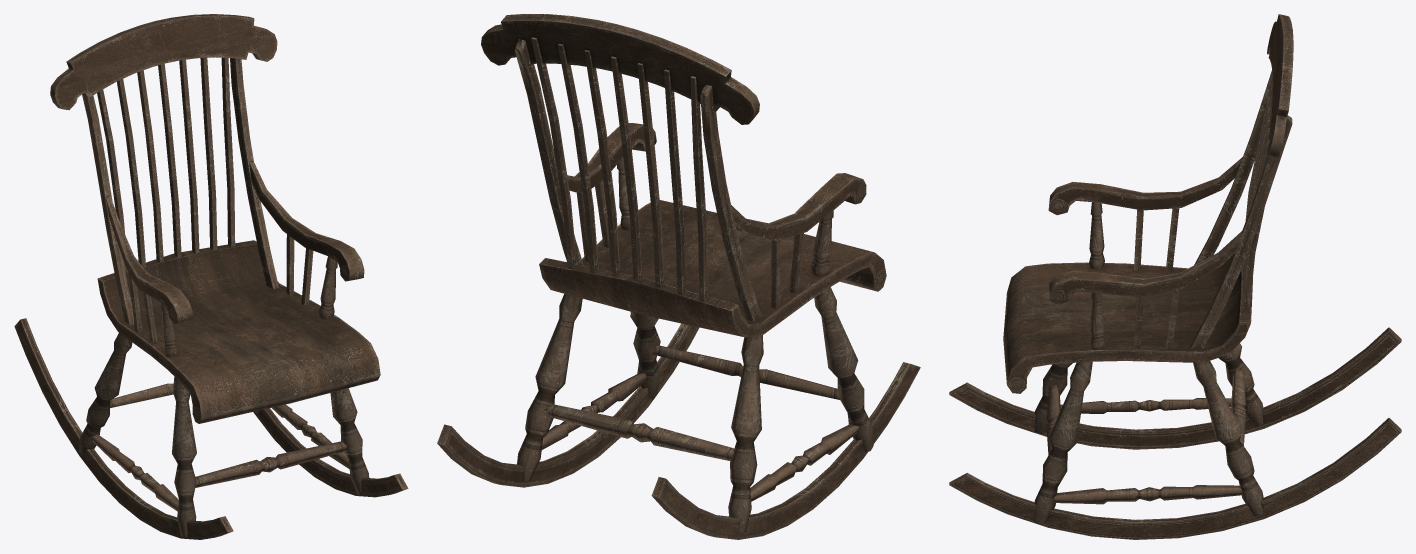
Rendered from Rocking_chair_LOD1.fbx.
3 renders of one model, left to right at view 1: azimuth 30°, elevation 25°; view 2: azimuth 150°, elevation 25°; view 3: azimuth 270°, elevation 25°, orthographic. The views are drawn at different scales.
Parts seen in each view (by area): view 1: polySurface128; view 2: polySurface128; view 3: polySurface128.
Part boxes in pixels (x1,y1,x2,y2): polySurface128: [14, 14, 408, 539]; polySurface128: [437, 14, 920, 539]; polySurface128: [949, 14, 1401, 539].
Size of the model in its own units: 84.12 by 153 by 140.
